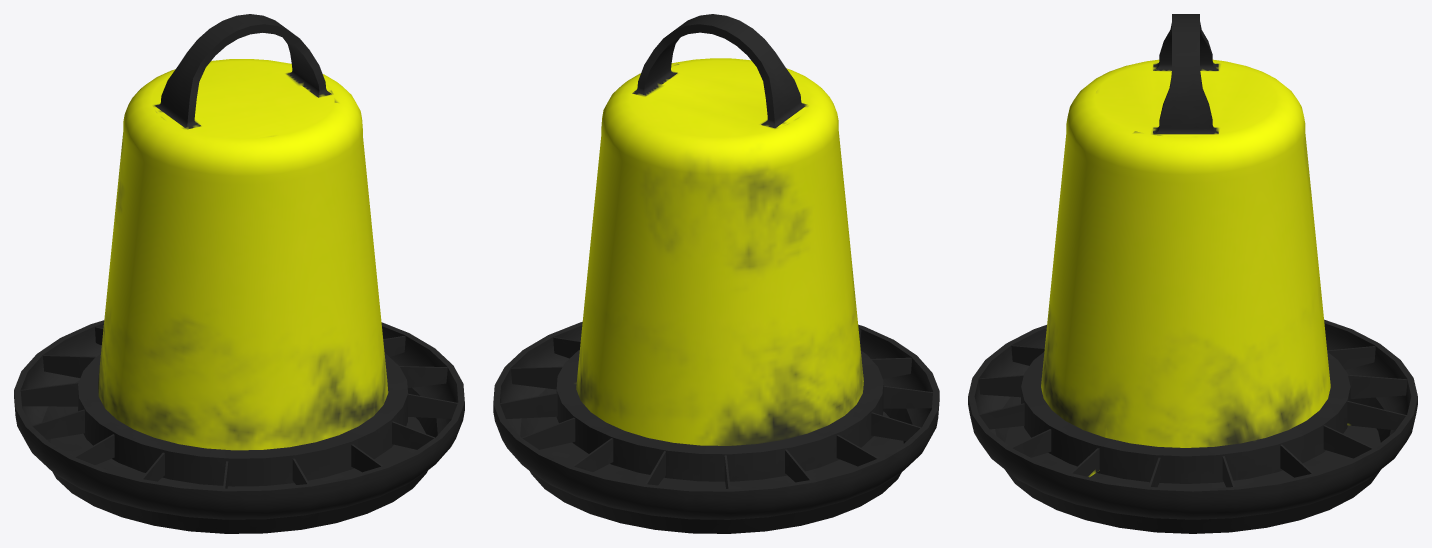
Rendered from feeder.glb.
3 views of the same model, side by side, from view 1: azimuth 30°, elevation 25°; view 2: azimuth 150°, elevation 25°; view 3: azimuth 270°, elevation 25° (orthographic).
Visible parts, largest first — view 1: ChickenFeeder_001; view 2: ChickenFeeder_001; view 3: ChickenFeeder_001.
Part boxes in pixels (x1,y1,x2,y2): ChickenFeeder_001: (14,14,464,533); ChickenFeeder_001: (493,14,939,533); ChickenFeeder_001: (968,14,1417,533).
Bounding box in the file's own units: 3.76 × 3.99 × 3.76.
1 material, 1 textured.
